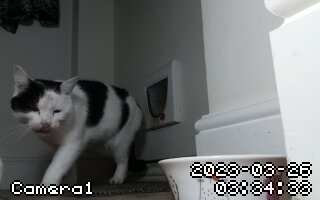bad: (7, 65, 145, 199)
